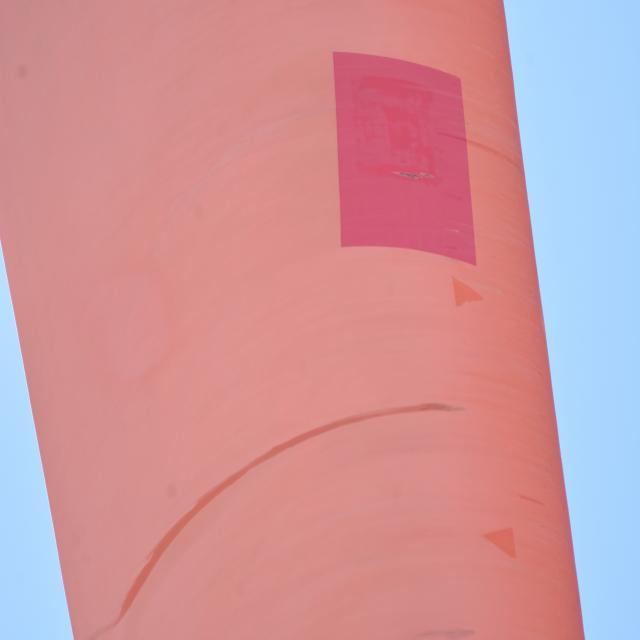Coating_defects: (391, 165, 443, 189)
